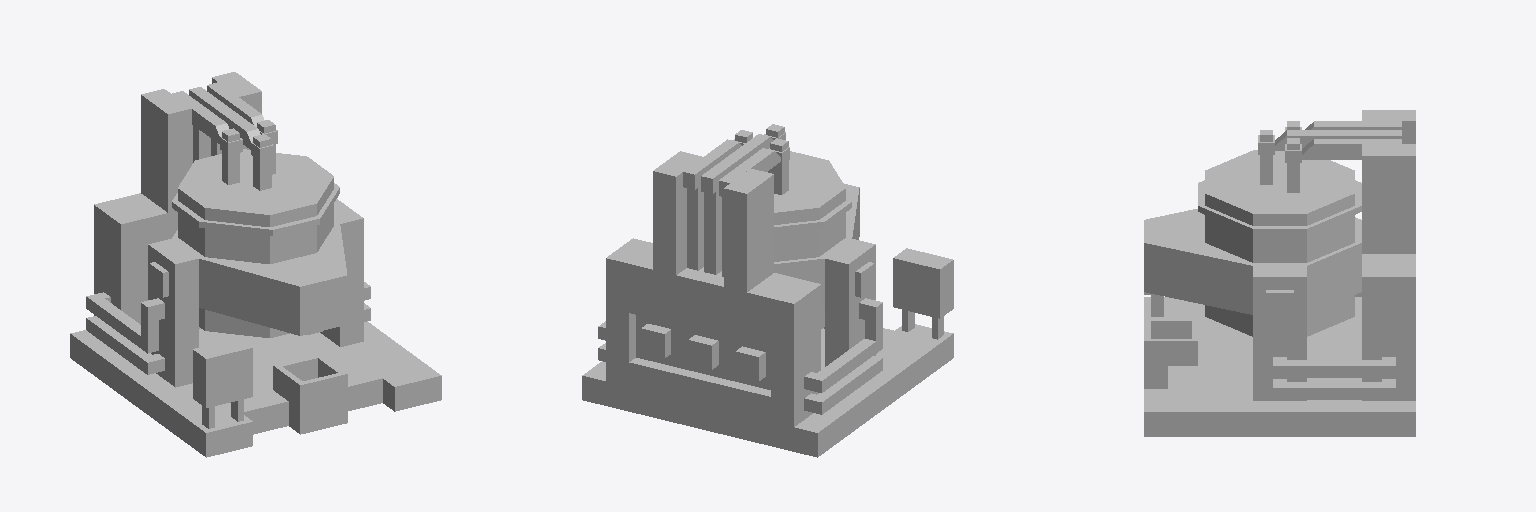
Rendered from arcFurnace.obj.
3 views of the same model, side by side, from view 1: azimuth 30°, elevation 25°; view 2: azimuth 150°, elevation 25°; view 3: azimuth 270°, elevation 25° (orthographic).
Parts seen in each view (by area): view 1: base, furnace, electrode2, electrode1; view 2: base, furnace, electrode1; view 3: base, furnace, electrode2, electrode3.
Boxes of the visible parts, box(x1,y1,x2,y2) form: base: box(70, 72, 441, 457); furnace: box(149, 149, 347, 337); electrode2: box(253, 134, 271, 190); electrode1: box(222, 128, 239, 184); base: box(582, 132, 953, 457); furnace: box(774, 151, 874, 328); electrode1: box(770, 138, 788, 194); base: box(1144, 110, 1415, 436); furnace: box(1144, 150, 1361, 336); electrode2: box(1260, 130, 1272, 184); electrode3: box(1287, 138, 1299, 192).
Size of the model in its own units: 5.04 by 5.04 by 5.04.